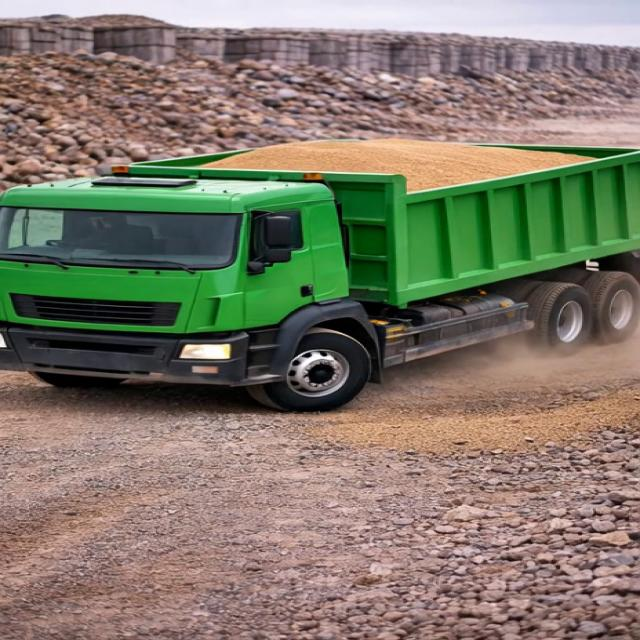Box: (115, 139, 638, 193)
Truck: (0, 116, 633, 404)
